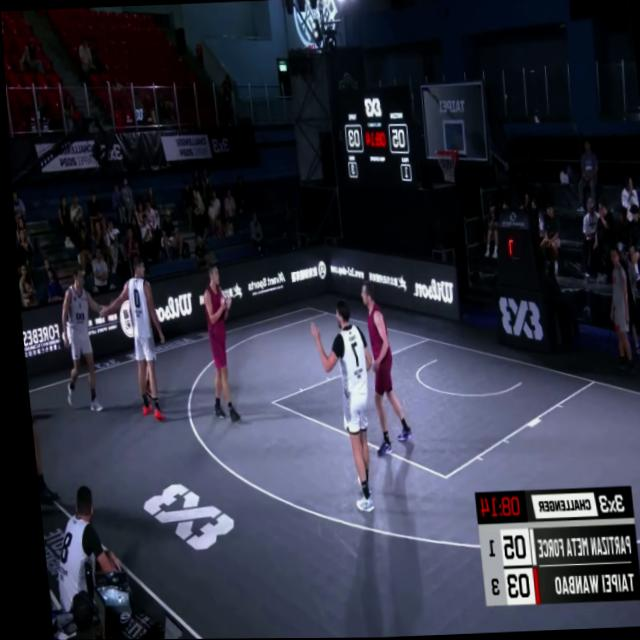hoop: (431, 145, 460, 186)
player: (305, 298, 380, 519), (94, 255, 167, 425), (351, 275, 409, 462), (50, 265, 112, 413), (193, 258, 239, 427)
